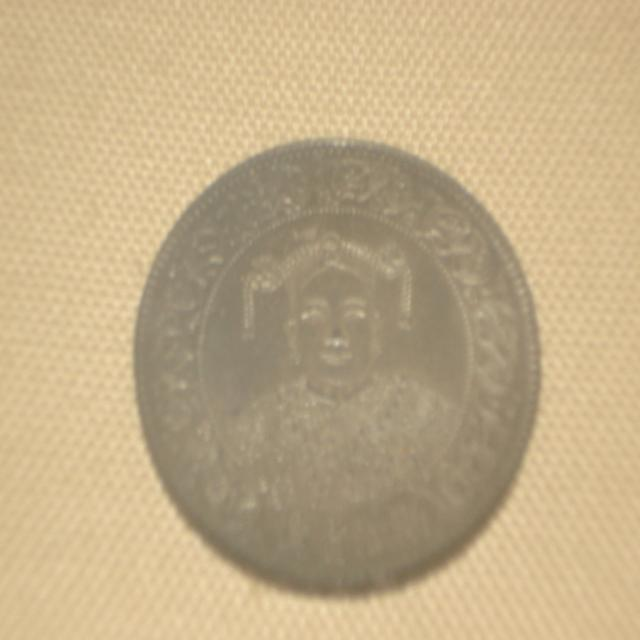Coin: (132, 139, 534, 586)
